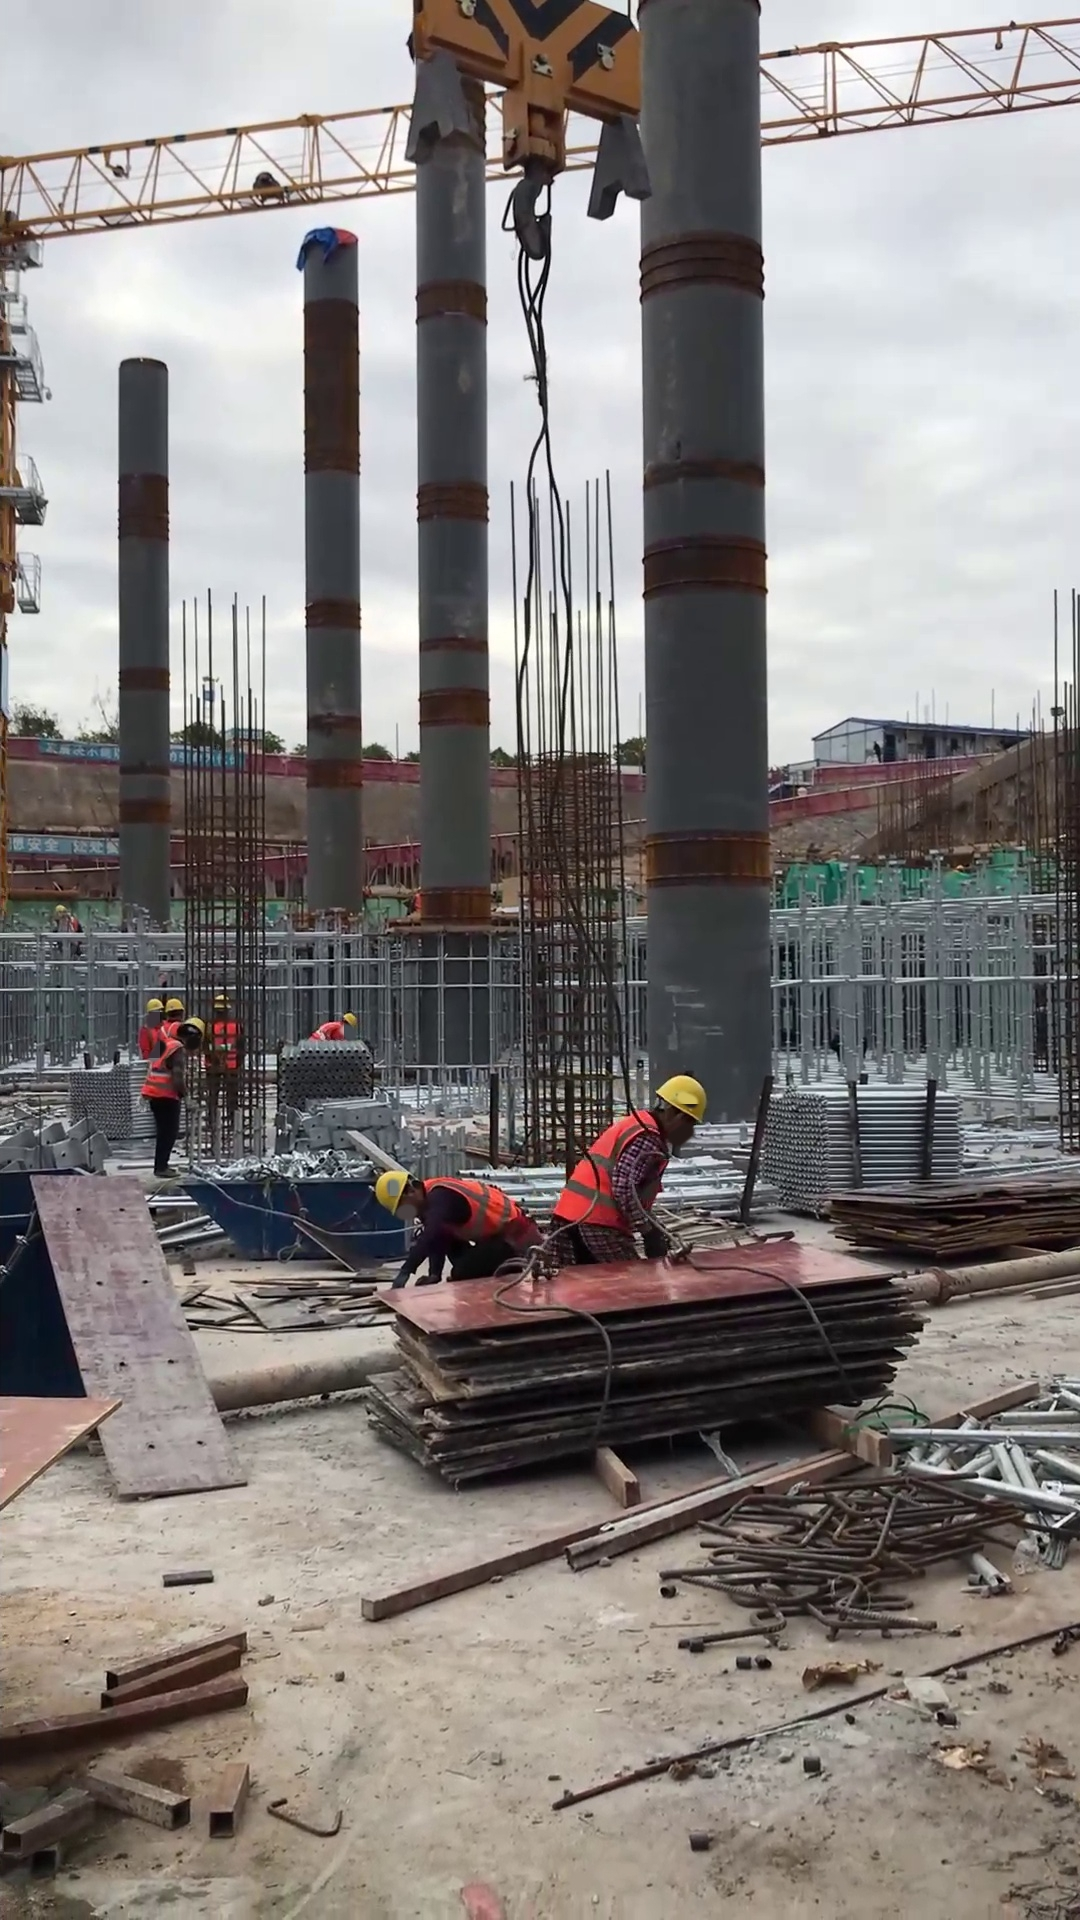board: (363, 1242, 922, 1487), (823, 1169, 1080, 1255)
helmet: (655, 1073, 707, 1126), (372, 1169, 409, 1218), (179, 1015, 205, 1037), (163, 997, 185, 1015), (144, 996, 164, 1014), (212, 993, 233, 1010), (342, 1011, 359, 1029)
hook: (402, 1, 654, 264)
hopper: (174, 1176, 418, 1263)
person: (544, 1072, 708, 1267), (371, 1168, 544, 1287), (137, 1015, 208, 1180), (203, 990, 247, 1137), (137, 997, 164, 1058), (304, 1009, 358, 1039), (158, 997, 185, 1042)
scaffold: (758, 1082, 968, 1213), (652, 1151, 785, 1214), (66, 1056, 158, 1140), (275, 1039, 376, 1114)
slogan: (38, 734, 239, 772), (5, 831, 127, 861)
vest: (550, 1108, 670, 1237), (419, 1174, 525, 1243), (138, 1037, 186, 1103), (207, 1018, 240, 1071), (310, 1020, 344, 1040), (160, 1018, 182, 1041)
